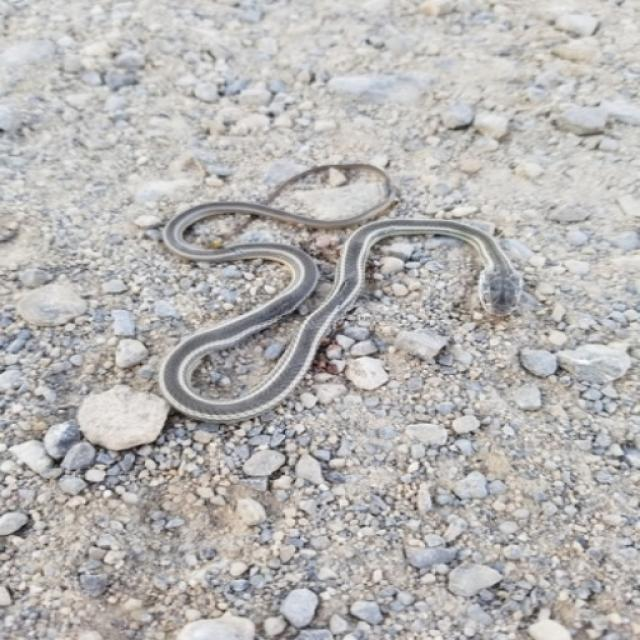snake: (156, 154, 534, 418)
